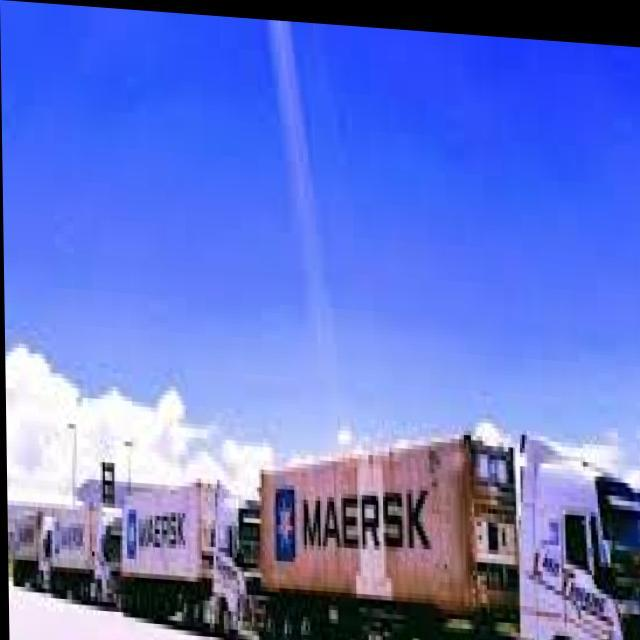covered: (252, 401, 640, 640), (117, 473, 263, 640), (49, 499, 122, 612), (15, 512, 50, 592)
